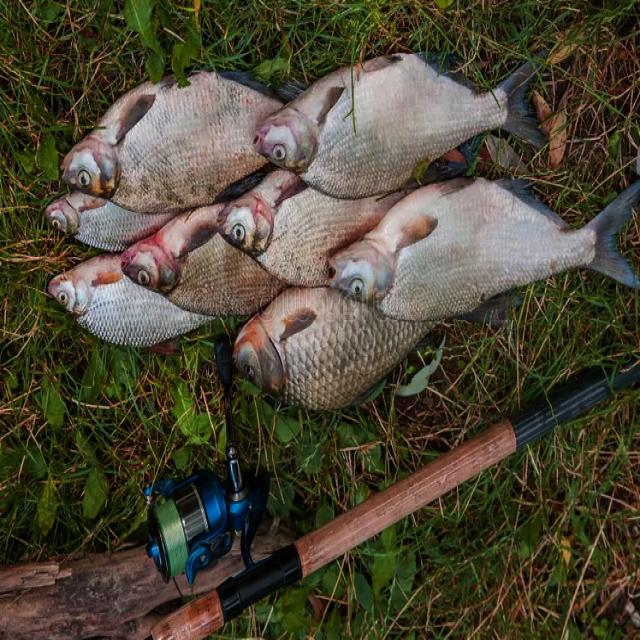Common carp: (326, 177, 640, 328), (254, 48, 556, 199)
